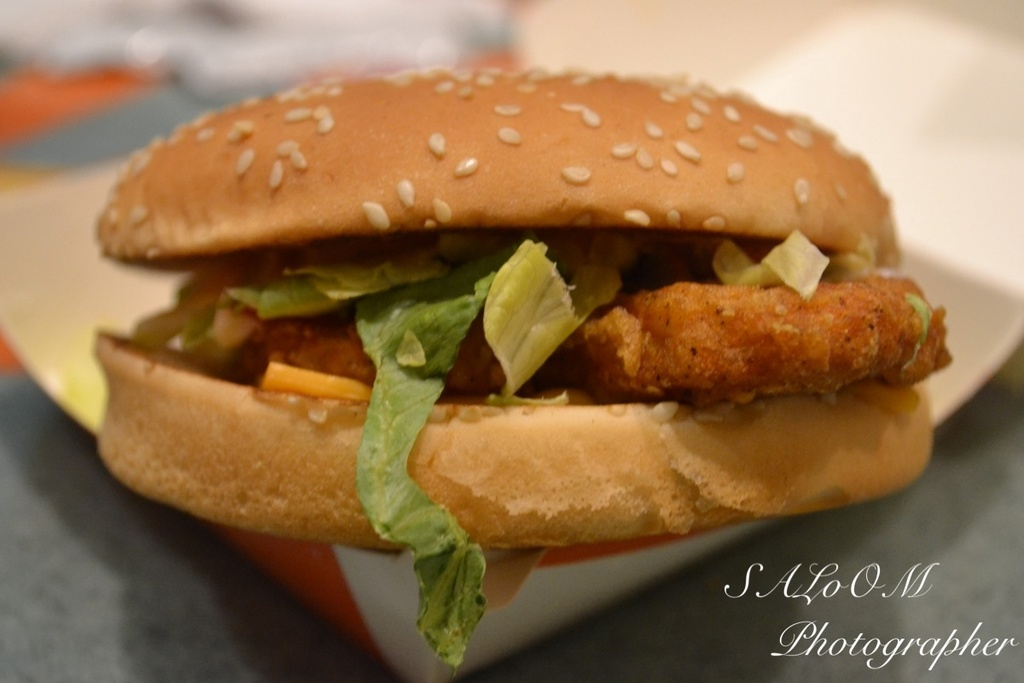Hamburger: (96, 70, 954, 678)
